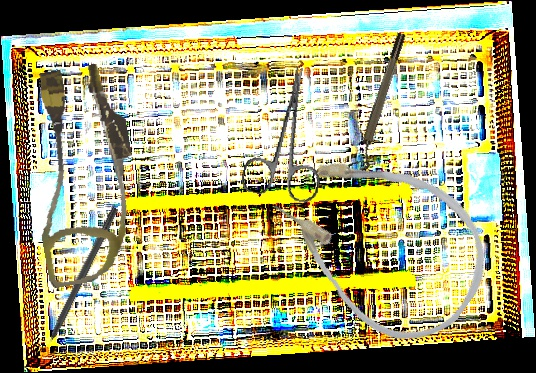Cannula: (250, 115, 514, 366), (13, 60, 153, 289)
Fixation Ring: (349, 31, 414, 173)
Hook Surgical: (37, 205, 120, 359)
Iris Scissors: (239, 60, 341, 205)
